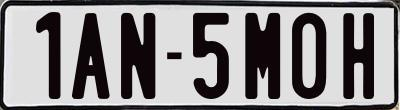0: (291, 11, 329, 100)
1: (36, 12, 67, 101)
5: (190, 13, 230, 100)
A: (71, 11, 110, 98)
H: (343, 10, 378, 98)
M: (243, 11, 281, 97)
N: (121, 12, 157, 104)
